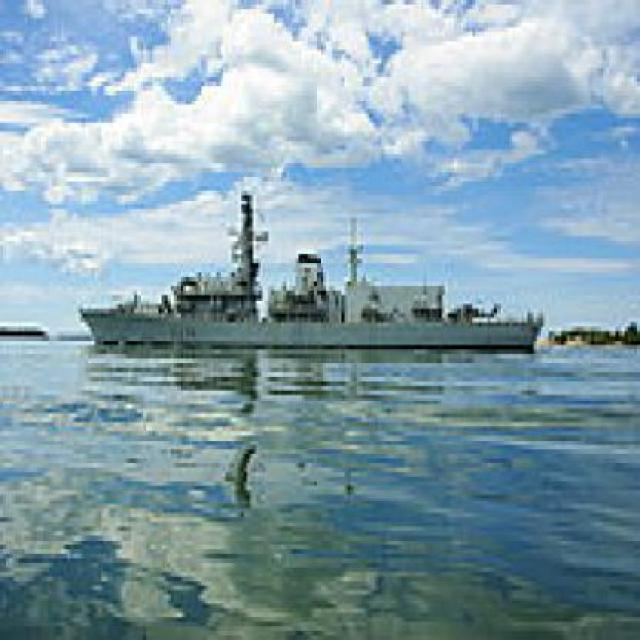warship2: (59, 178, 556, 359)
